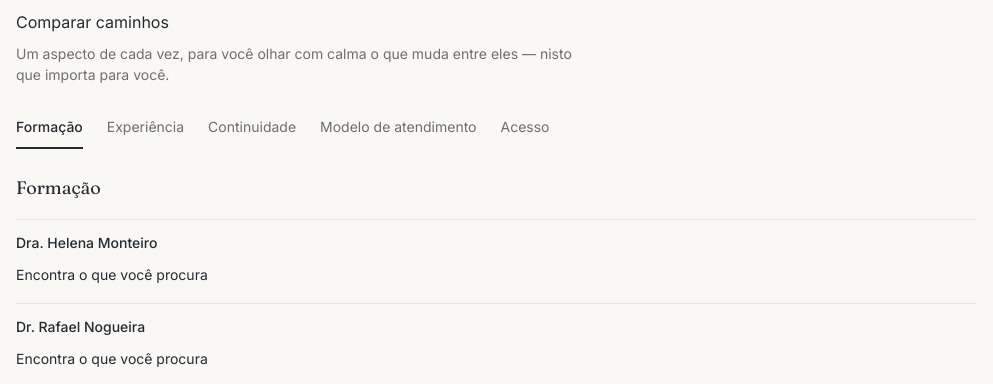
Comparação — uma dimensão por vez › trocar de dimensão mostra os mesmos caminhos sob a nova pergunta
Click the tab "Acesso" at (525, 127), box [500,105,550,149]
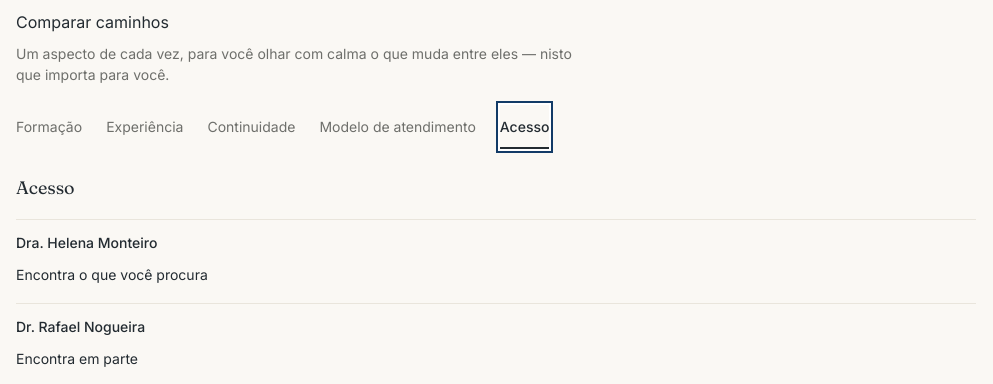
Check: the text "Dra. Helena Monteiro" is shown, box [16,234,157,251]
Check: the heading "Acesso" is shown, box [16,176,75,199]
